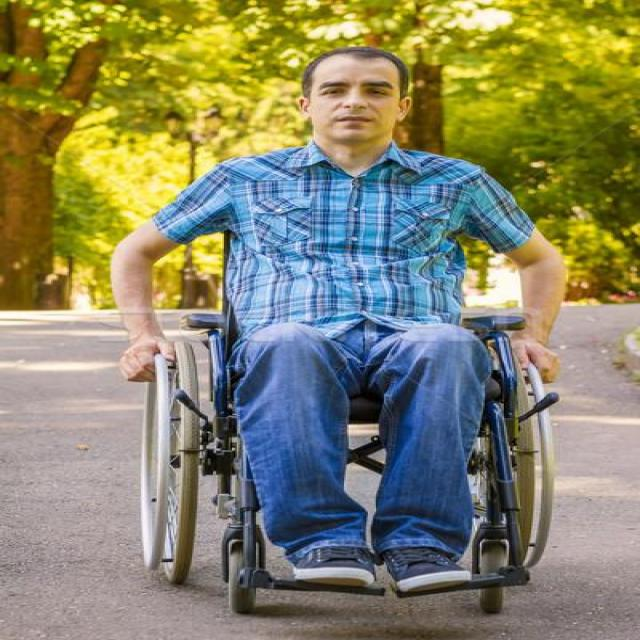wheelchairs: (99, 282, 592, 637)
